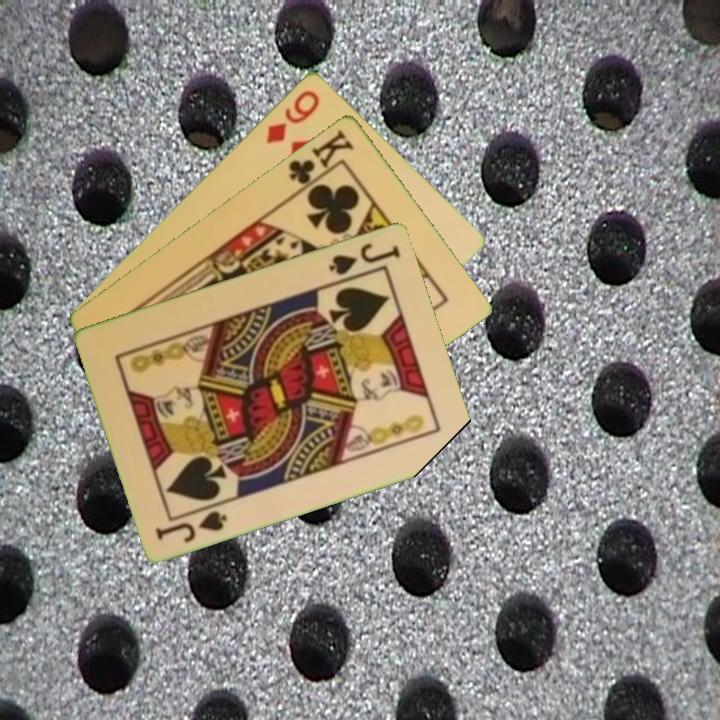9d: (262, 85, 323, 146)
Js: (325, 239, 404, 278), (152, 506, 230, 545)
Kc: (285, 125, 357, 195)
